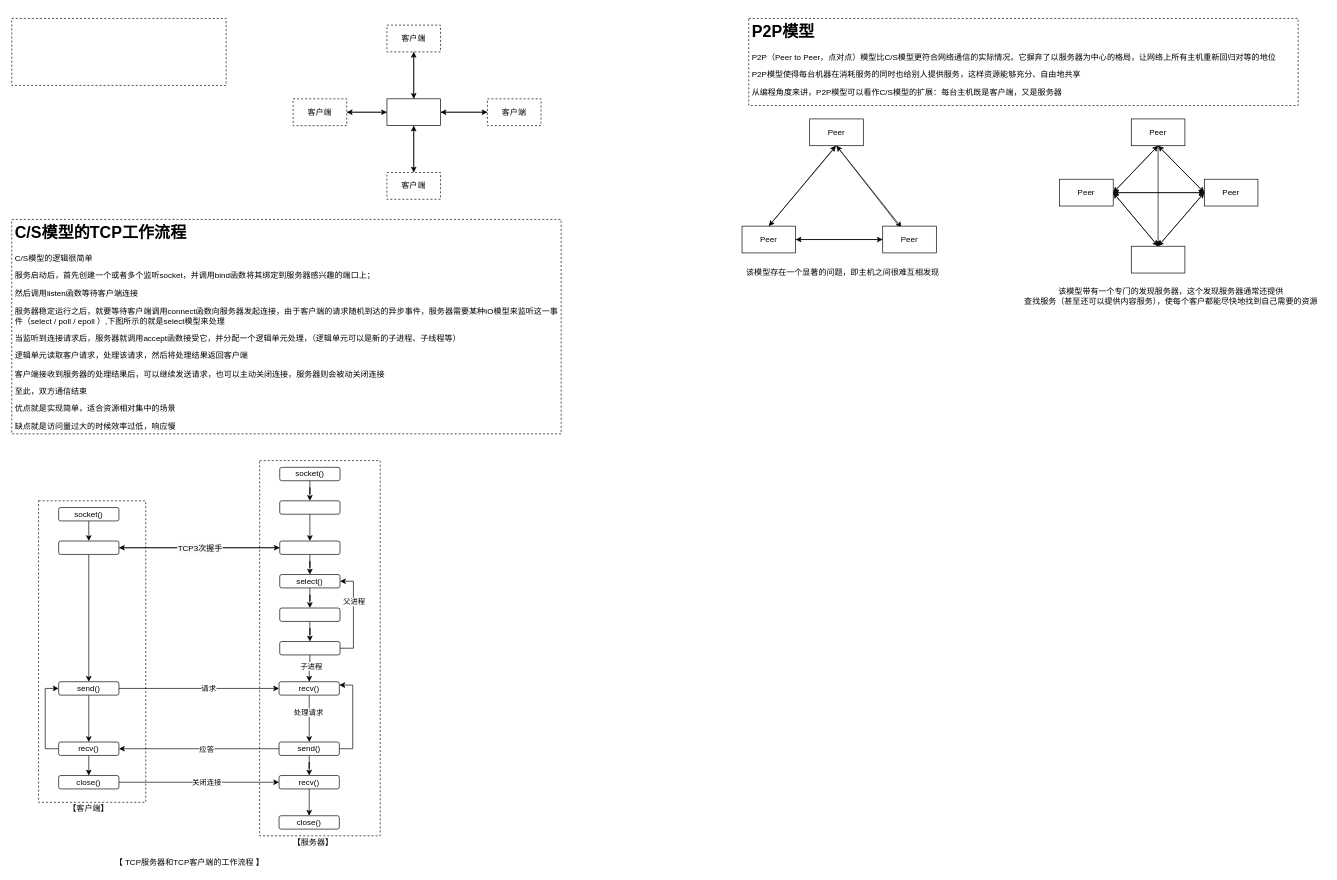
Image size: 1337x880. Some labels were removed from this diagram. The box of each missing label's shape, as (x1, y1, x2, y2) in pixels:
appect(): (279, 607, 340, 621)
bind(): (279, 500, 340, 514)
C/S模型 客户端/服务器模型 所有客户端都通过访问服务器来获取所需的资源.: (11, 18, 226, 85)
connect(): (58, 540, 119, 554)
fock(): (279, 641, 340, 655)
listen(): (279, 540, 340, 554)
发现服务器: (1131, 246, 1185, 273)
服务器: (386, 98, 441, 126)
